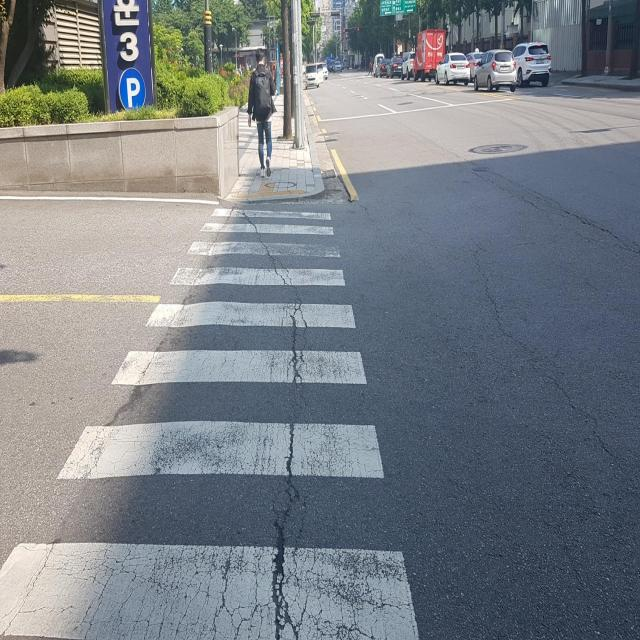횡단보도: (0, 205, 423, 640)
